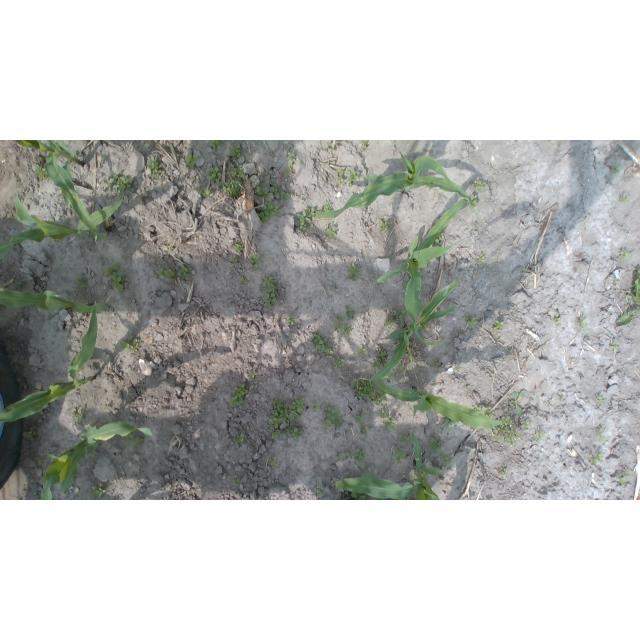Maize: (370, 198, 467, 346), (0, 300, 98, 422), (359, 279, 459, 382), (313, 153, 470, 216), (40, 421, 152, 500), (14, 141, 98, 244), (1, 189, 124, 257), (331, 433, 445, 500), (375, 377, 509, 428), (1, 288, 106, 316)
Weeds: (616, 268, 640, 327), (350, 375, 387, 407), (491, 414, 523, 447), (102, 170, 135, 194), (102, 262, 127, 293), (260, 275, 280, 309), (268, 397, 288, 429), (321, 405, 344, 431), (258, 200, 282, 221), (295, 208, 315, 233), (228, 383, 248, 407), (217, 179, 243, 197), (510, 390, 527, 416), (313, 334, 334, 355), (288, 396, 305, 421), (118, 335, 140, 354), (282, 424, 305, 442), (379, 408, 397, 430), (474, 404, 497, 420), (126, 431, 145, 449), (156, 266, 177, 282), (346, 263, 363, 282), (249, 253, 264, 273), (230, 164, 248, 180), (462, 314, 480, 329), (147, 159, 161, 178), (346, 168, 360, 187), (193, 186, 213, 199), (70, 408, 86, 424), (91, 483, 106, 500), (429, 438, 444, 455), (228, 143, 242, 161), (177, 264, 192, 280), (206, 166, 221, 182), (392, 445, 406, 461), (33, 164, 47, 180), (378, 220, 395, 233), (443, 416, 460, 429), (344, 305, 356, 323), (209, 140, 224, 154), (325, 222, 337, 239), (352, 449, 366, 463), (185, 154, 198, 169), (254, 186, 269, 199), (472, 177, 484, 193), (359, 424, 373, 437), (269, 179, 279, 196), (27, 430, 41, 442), (353, 409, 365, 423), (492, 321, 504, 335), (589, 452, 603, 464), (433, 233, 444, 248), (350, 492, 368, 501), (336, 169, 345, 187), (341, 326, 353, 339), (430, 356, 442, 369), (576, 317, 588, 330), (399, 433, 413, 444), (371, 358, 386, 368), (468, 195, 478, 210), (383, 370, 395, 382), (532, 431, 544, 443), (76, 276, 87, 288), (284, 163, 295, 175), (439, 455, 451, 466), (233, 240, 243, 253), (399, 310, 409, 323), (375, 348, 386, 359), (34, 456, 46, 466), (233, 433, 243, 445), (334, 313, 346, 323), (383, 316, 393, 328), (619, 250, 631, 260), (229, 255, 239, 266), (521, 419, 532, 429), (313, 485, 325, 494), (418, 324, 430, 333), (594, 434, 606, 443), (402, 276, 410, 289), (270, 429, 280, 439), (334, 357, 344, 367), (332, 323, 342, 333), (280, 191, 290, 201), (619, 192, 629, 202), (309, 403, 320, 412), (362, 471, 375, 478), (285, 152, 295, 161), (475, 254, 485, 263), (610, 164, 620, 173), (334, 450, 342, 461), (555, 313, 562, 325), (234, 478, 243, 487), (287, 316, 296, 325), (596, 396, 605, 405), (247, 370, 257, 378), (269, 457, 277, 467), (361, 140, 369, 150), (618, 476, 628, 484), (324, 145, 335, 152), (323, 203, 331, 212), (609, 342, 617, 351), (499, 469, 508, 477), (167, 242, 173, 253), (14, 180, 22, 188), (625, 466, 633, 474), (457, 329, 464, 338), (358, 348, 366, 355), (239, 277, 247, 284), (444, 348, 450, 357), (39, 477, 45, 486), (390, 309, 399, 315), (102, 405, 109, 412), (400, 365, 408, 371), (316, 214, 324, 220), (424, 185, 432, 191), (331, 285, 338, 291), (544, 141, 557, 144), (455, 364, 461, 370), (72, 151, 78, 157), (393, 318, 399, 324), (346, 450, 352, 455), (523, 268, 528, 274), (33, 492, 38, 496), (318, 207, 322, 212), (599, 428, 603, 433), (427, 261, 430, 265)
